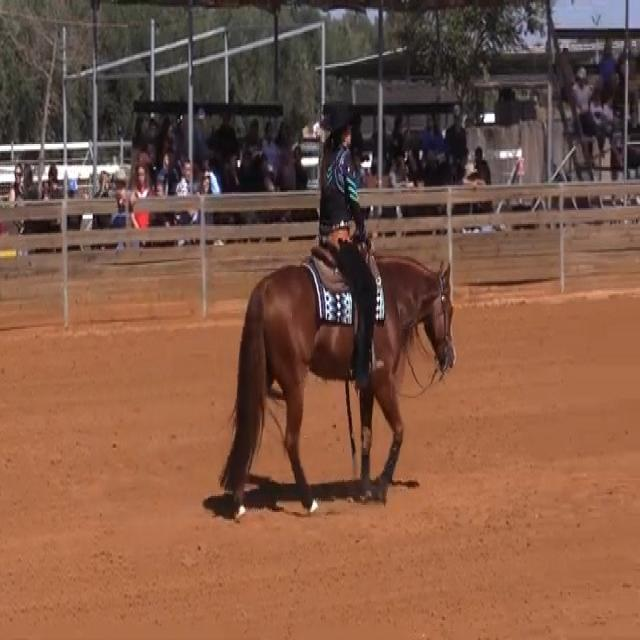horse: (218, 240, 457, 517)
